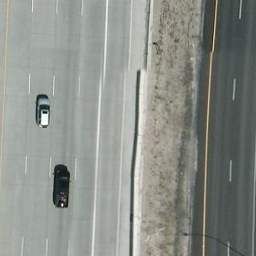car: (51, 169, 69, 207), (36, 100, 52, 128)
